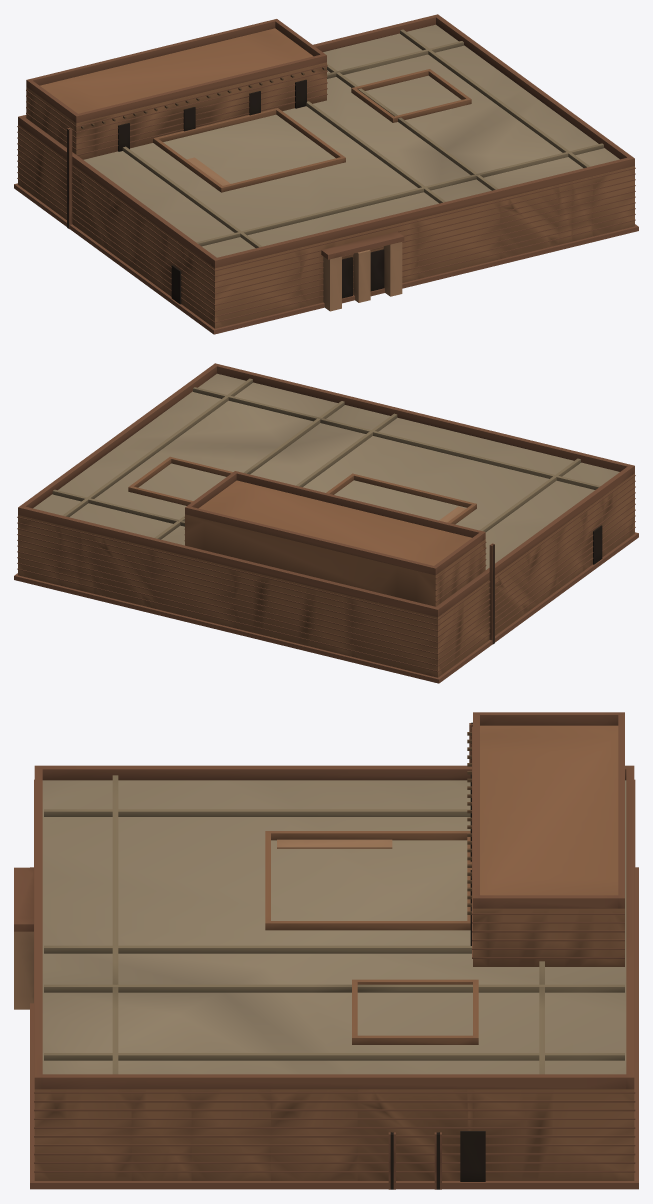
The model's file is hr-house.glb.
3 views of the same model, one above another, from view 1: azimuth 30°, elevation 25°; view 2: azimuth 150°, elevation 25°; view 3: azimuth 270°, elevation 25° (orthographic). The views are drawn at different scales.
Parts seen in each view (by area): view 1: p2_roofs and upper storey, p0_walls and courts, p1_entrance, stair and drains; view 2: p2_roofs and upper storey, p0_walls and courts, p1_entrance, stair and drains; view 3: p2_roofs and upper storey, p0_walls and courts, p1_entrance, stair and drains.
Boxes of the visible parts, x1,y1,x2,y2 form: p2_roofs and upper storey: (18,14,634,268); p0_walls and courts: (14,69,638,334); p1_entrance, stair and drains: (67,128,404,311); p2_roofs and upper storey: (18,363,634,617); p0_walls and courts: (14,456,638,683); p1_entrance, stair and drains: (439,506,602,644); p2_roofs and upper storey: (34,712,634,1089); p0_walls and courts: (30,779,638,1189); p1_entrance, stair and drains: (14,722,485,1189).
Size of the model in its own units: 32.48 by 8 by 27.1.
